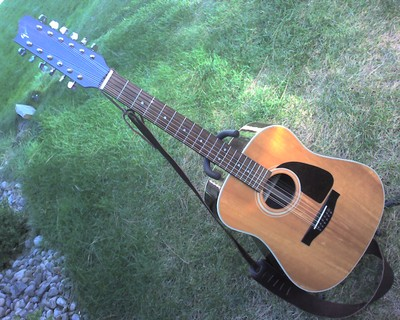guitar: (8, 15, 388, 297)
